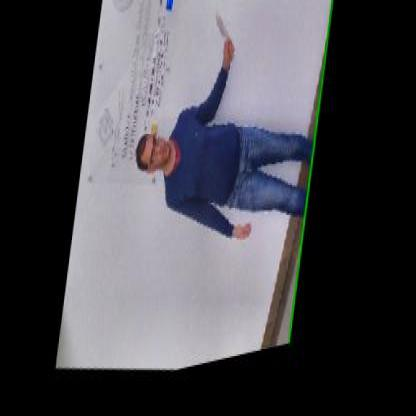knife: (208, 14, 242, 78)
